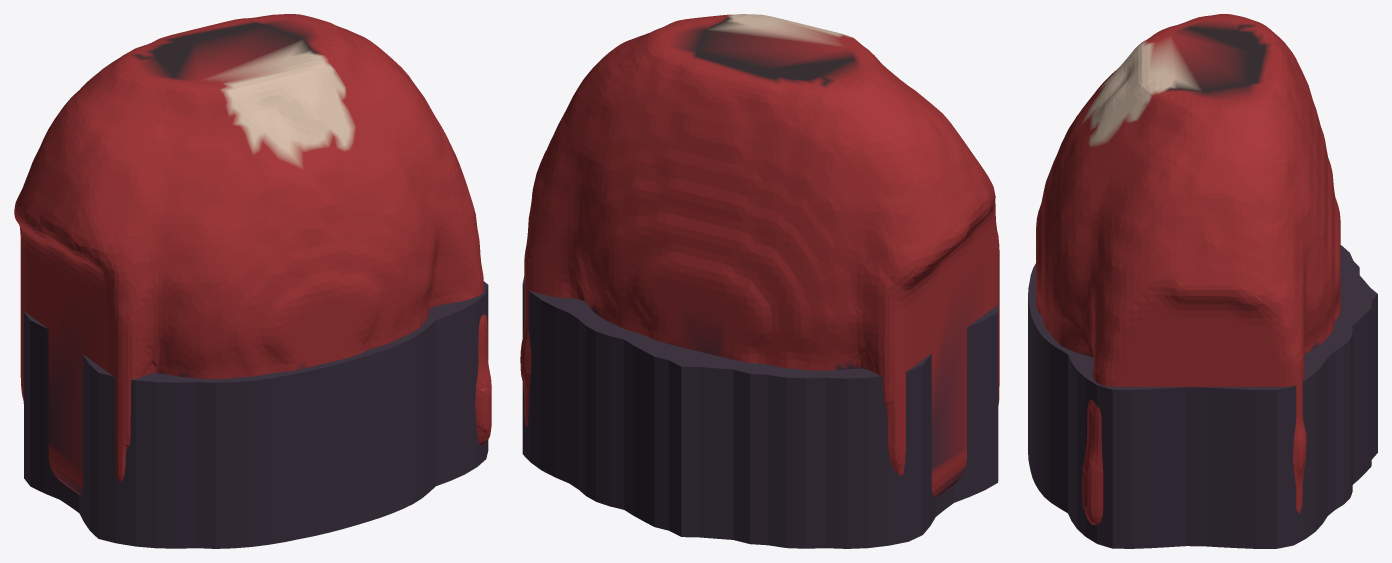
File: torso.glb
3 renders of one model, left to right at view 1: azimuth 30°, elevation 25°; view 2: azimuth 150°, elevation 25°; view 3: azimuth 270°, elevation 25°, orthographic. The views are drawn at different scales.
Visible parts, largest first — view 1: geometry_0; view 2: geometry_0; view 3: geometry_0.
Part boxes in pixels (x1,y1,x2,y2): geometry_0: (14, 14, 491, 548); geometry_0: (520, 14, 999, 548); geometry_0: (1028, 14, 1377, 548).
Bounding box in the file's own units: 0.3839 × 0.3765 × 0.3038.
